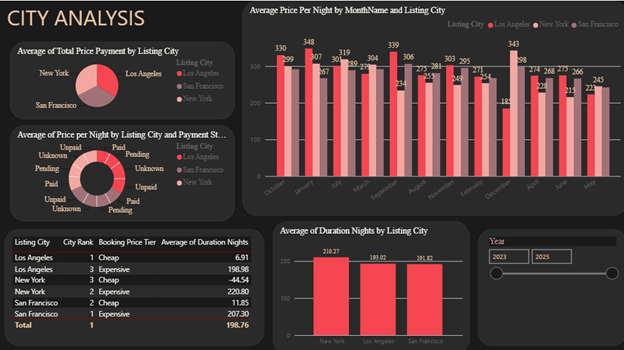

The page's visual inventory and layout, read from the dashboard file:
{"tool":"powerbi","page":{"name":"City","canvas":[1280,720],"ordinal":1},"visuals":[{"type":"textbox","box":[9.5,0,575.4,75.9],"z":0},{"type":"clusteredColumnChart","fields":{"Category":["DimListings.Listing City"],"Y":["Avg(FactBookings.Duration Nights)"]},"box":[556.4,450.5,401.5,270.3],"z":1},{"type":"pieChart","fields":{"Category":["DimListings.Listing City"],"Y":["Avg(FactBookings.Total Price Payment)"]},"box":[20.5,83.8,458.4,158.1],"z":2},{"type":"slicer","fields":{"Values":["DimDate.Year"]},"box":[975.3,466.3,305.1,238.7],"z":3},{"type":"tableEx","fields":{"Values":["DimListings.Listing City","Measure.City Rank","FactBookings.Booking Price Tier","Avg(FactBookings.Duration Nights)"]},"box":[9.5,466.3,529.5,238.7],"z":4},{"type":"clusteredColumnChart","fields":{"Category":["DimDate.MonthName"],"Series":["DimListings.Listing City"],"Y":["Measure.Average Price Per Night"]},"box":[494.7,0,785.6,439.4],"z":5},{"type":"donutChart","fields":{"Category":["DimListings.Listing City"],"Series":["FactBookings.Payment Status"],"Y":["Avg(FactBookings.Price per Night)"]},"box":[20.5,254.5,458.4,196],"z":6}]}

Visuals, with their boxes in screenshot pixels (x1, y1, x2, y2), scaled from the page's 1280x720 canvas onto the 624x350 screenshot:
textbox: BBox(5, 0, 285, 37)
clusteredColumnChart - DimListings.Listing City x Avg(FactBookings.Duration Nights): BBox(271, 219, 467, 349)
pieChart - DimListings.Listing City x Avg(FactBookings.Total Price Payment): BBox(10, 41, 233, 118)
slicer - DimDate.Year: BBox(475, 227, 623, 343)
tableEx - DimListings.Listing City x Measure.City Rank: BBox(5, 227, 263, 343)
clusteredColumnChart - DimDate.MonthName x DimListings.Listing City: BBox(241, 0, 623, 214)
donutChart - DimListings.Listing City x FactBookings.Payment Status: BBox(10, 124, 233, 219)
